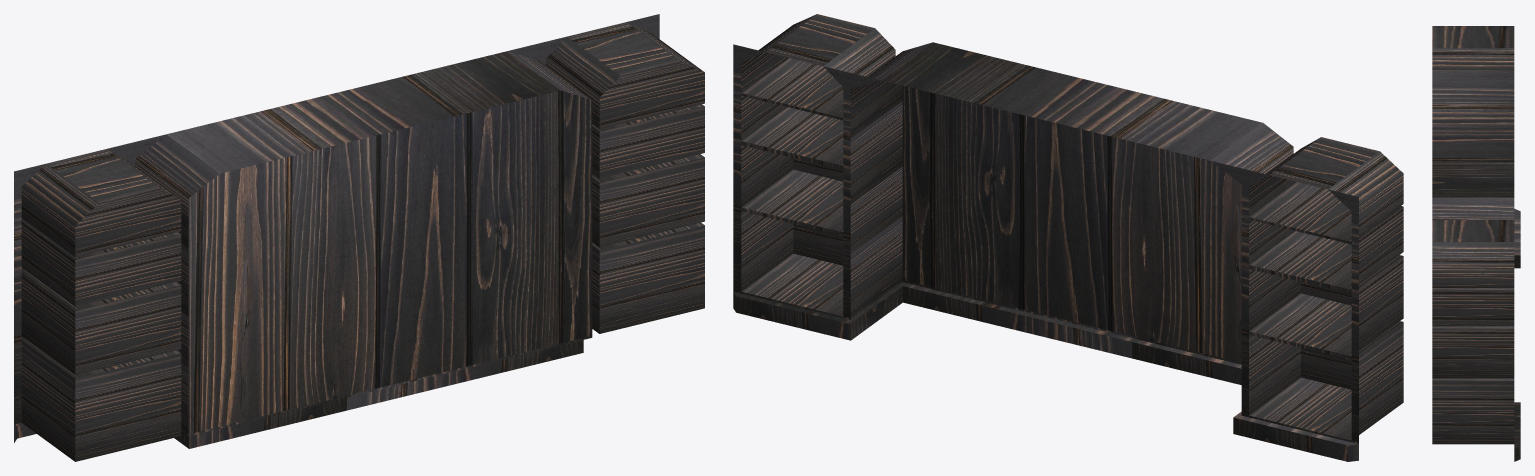
File: UpdatedFutureShelfs.fbx
3 views of the same model, side by side, from view 1: azimuth 30°, elevation 25°; view 2: azimuth 150°, elevation 25°; view 3: azimuth 270°, elevation 25° (orthographic). The views are drawn at different scales.
Visible parts, largest first — view 1: RoomBaseModel2023_03_30_Shelf; view 2: RoomBaseModel2023_03_30_Shelf; view 3: RoomBaseModel2023_03_30_Shelf.
Part boxes in pixels (box(x1,y1,x2,y2)): RoomBaseModel2023_03_30_Shelf: box(14, 14, 704, 461); RoomBaseModel2023_03_30_Shelf: box(733, 14, 1403, 461); RoomBaseModel2023_03_30_Shelf: box(1432, 26, 1520, 461).
Bounding box in the file's own units: 1591 × 641 × 247.
Materials: 1 (1 with a texture image).
